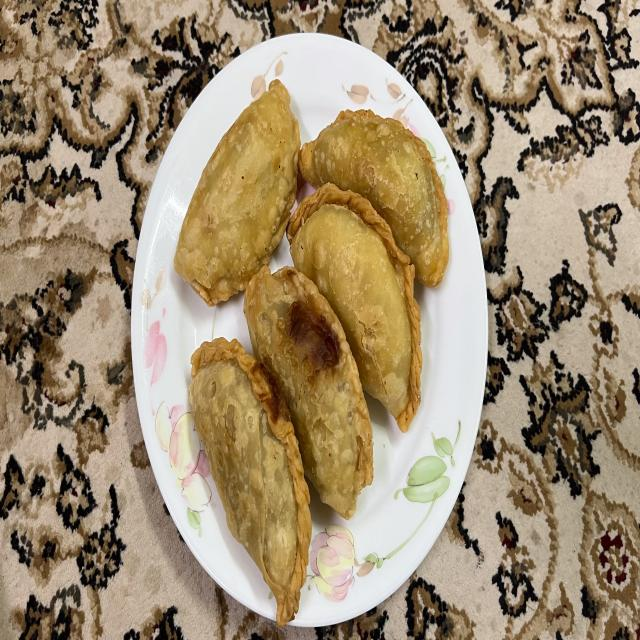karipap: (189, 338, 311, 624), (286, 182, 422, 431), (245, 267, 372, 518), (174, 80, 300, 307), (299, 109, 449, 287)
